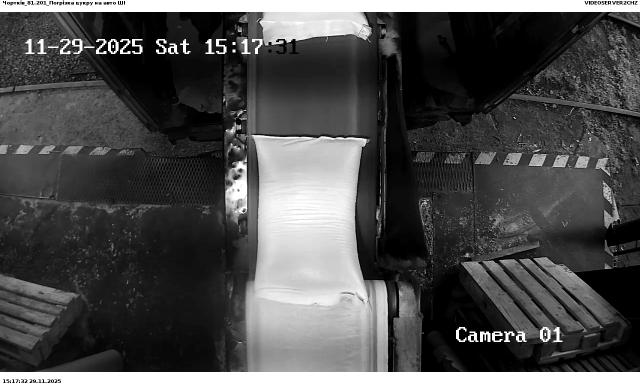bag: (251, 134, 369, 307), (260, 11, 371, 45)
